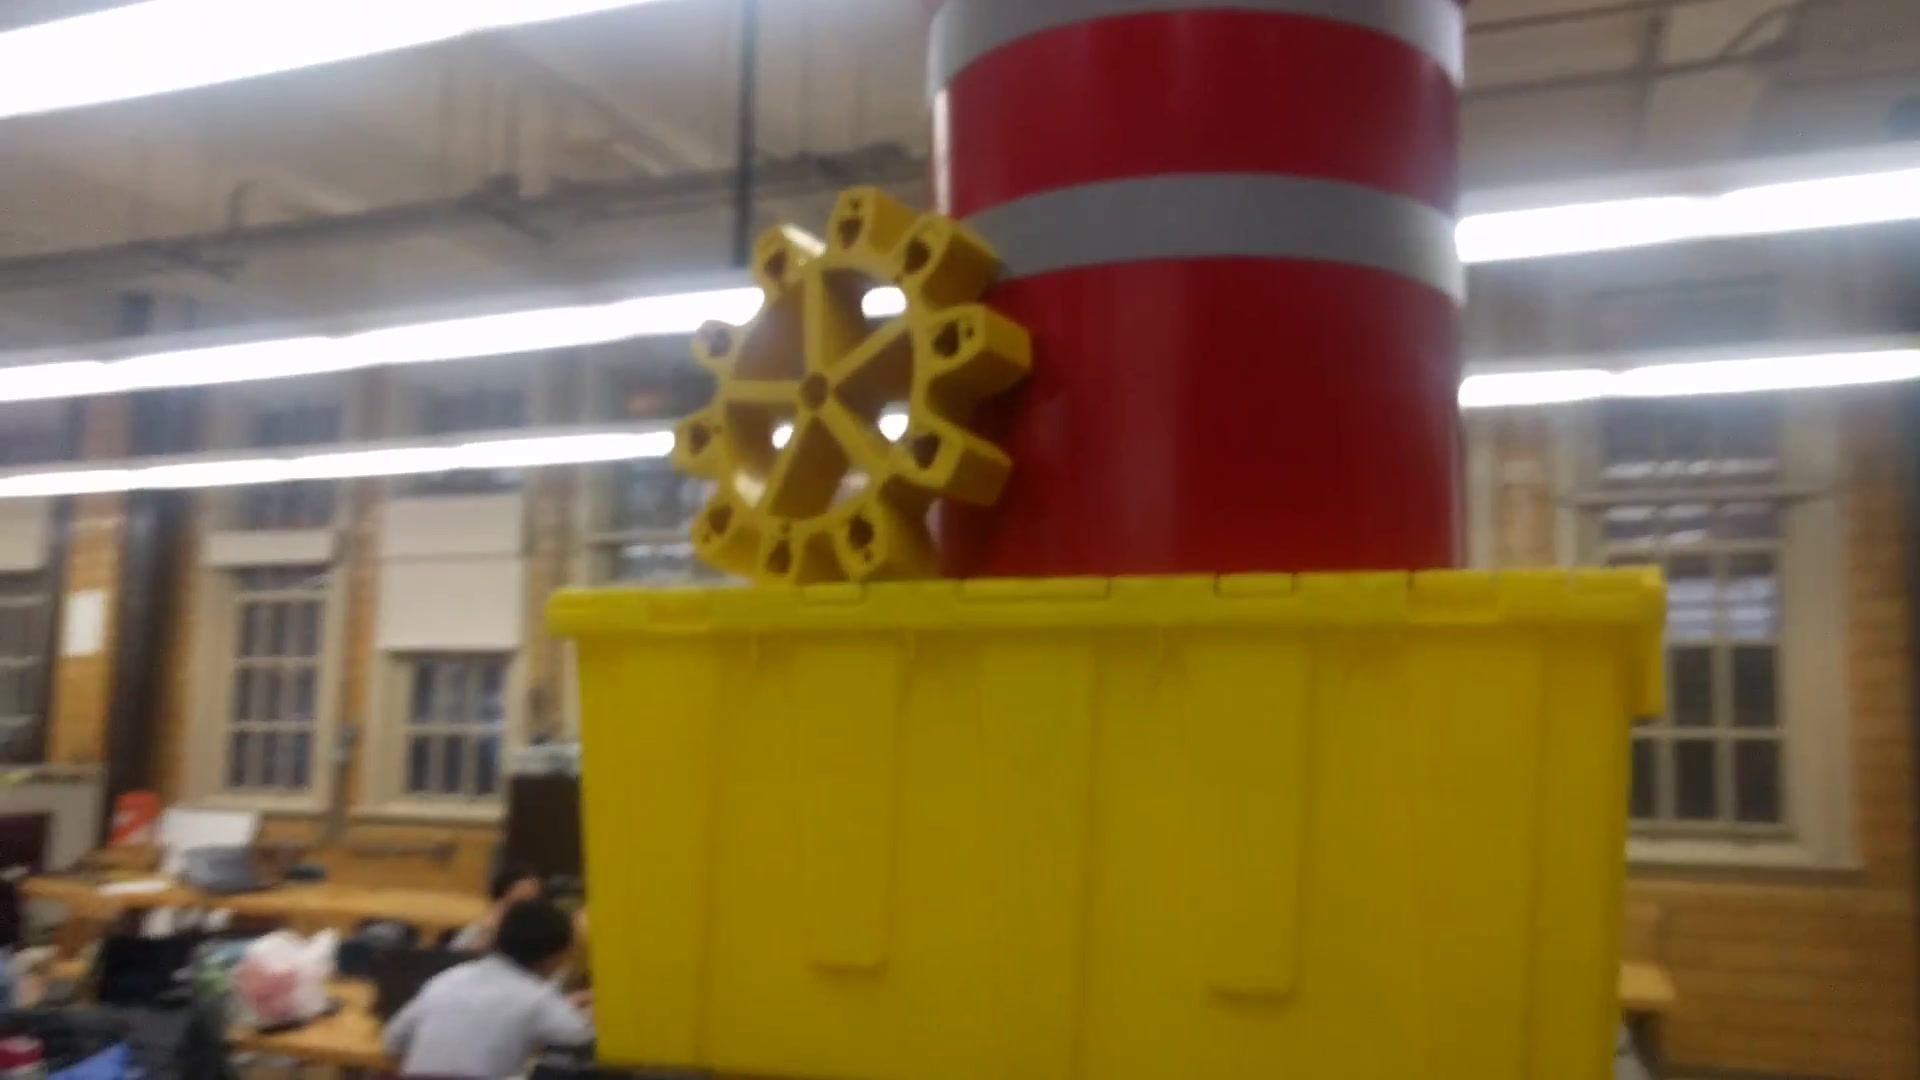gear: (674, 138, 1027, 644)
